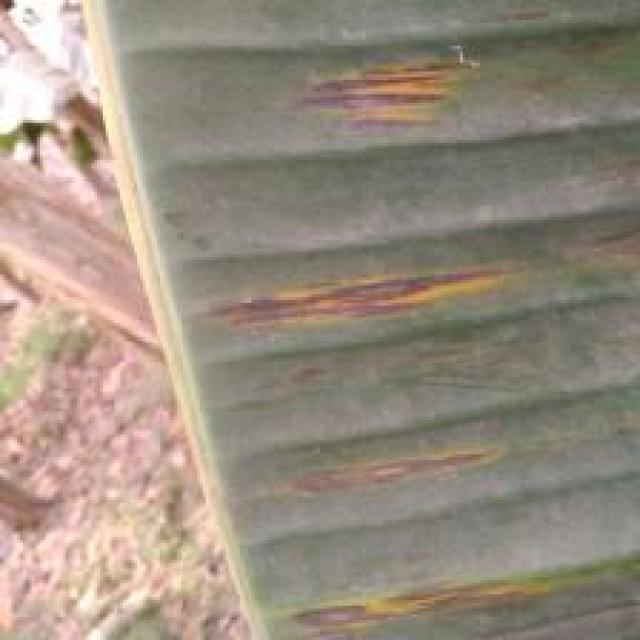Early_leaf_spot: (163, 246, 525, 341), (268, 555, 595, 636), (288, 416, 512, 514), (270, 39, 459, 152), (564, 193, 640, 286), (460, 0, 572, 46)
